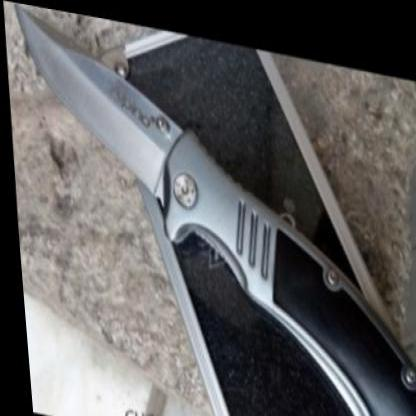knife: (3, 0, 188, 201)
